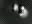person: (20, 6, 29, 20), (14, 4, 20, 13)
